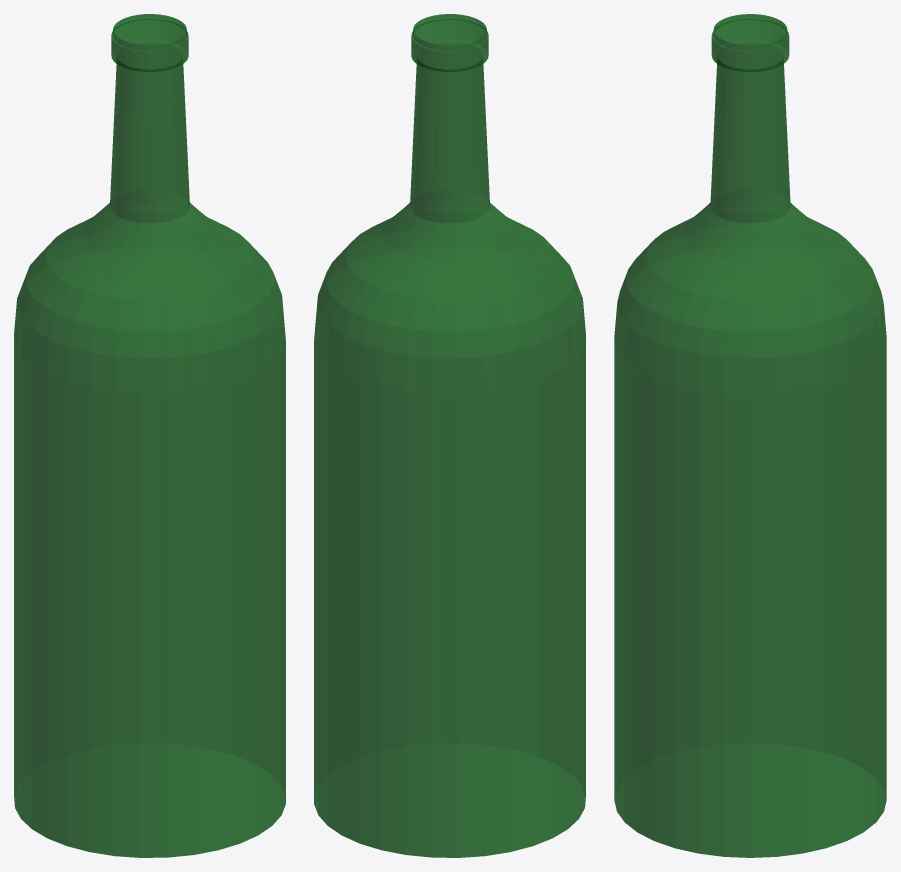
The model's file is Bottle.fbx.
3 renders of one model, left to right at view 1: azimuth 30°, elevation 25°; view 2: azimuth 150°, elevation 25°; view 3: azimuth 270°, elevation 25°, orthographic.
Parts seen in each view (by area): view 1: Bottle; view 2: Bottle; view 3: Bottle.
Boxes of the visible parts, left/top/right/bottom form: Bottle: left=14, top=14, right=285, bottom=857; Bottle: left=314, top=14, right=585, bottom=857; Bottle: left=614, top=14, right=886, bottom=857.
Bounding box in the file's own units: 200 × 625 × 200.
